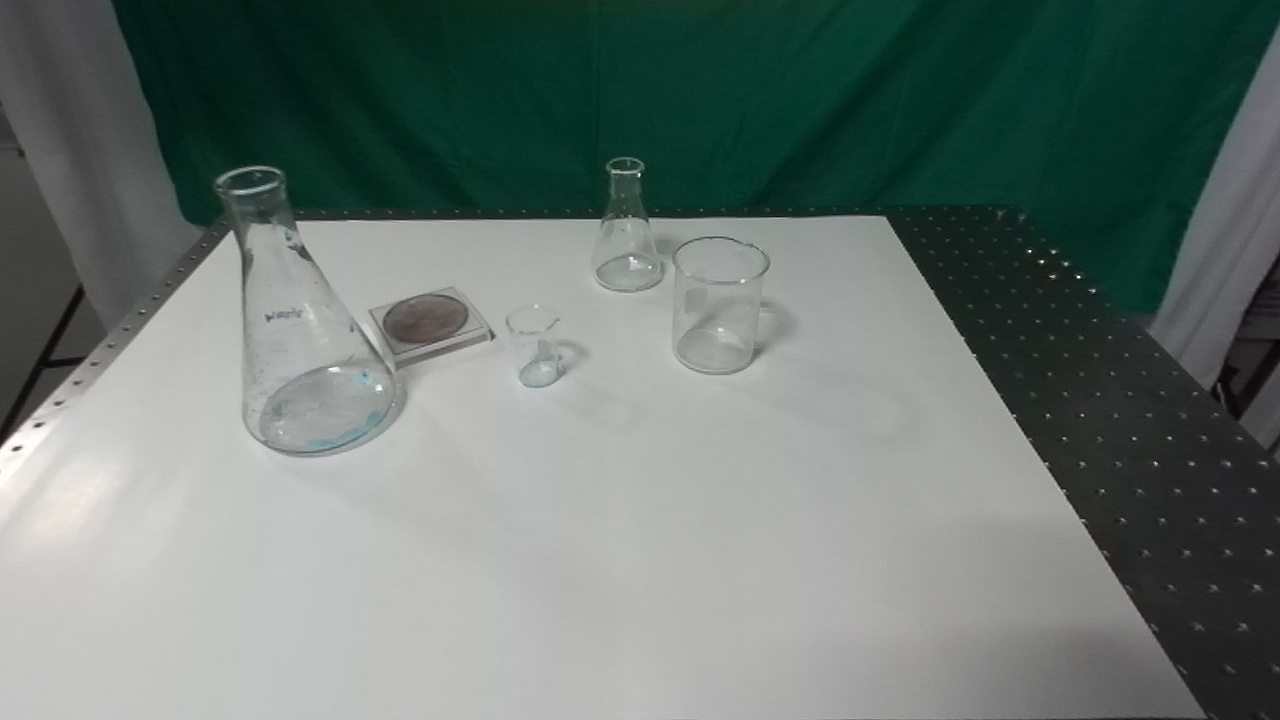glass: (210, 162, 401, 463), (666, 234, 773, 382), (588, 152, 669, 297)
plate: (366, 283, 497, 371)
